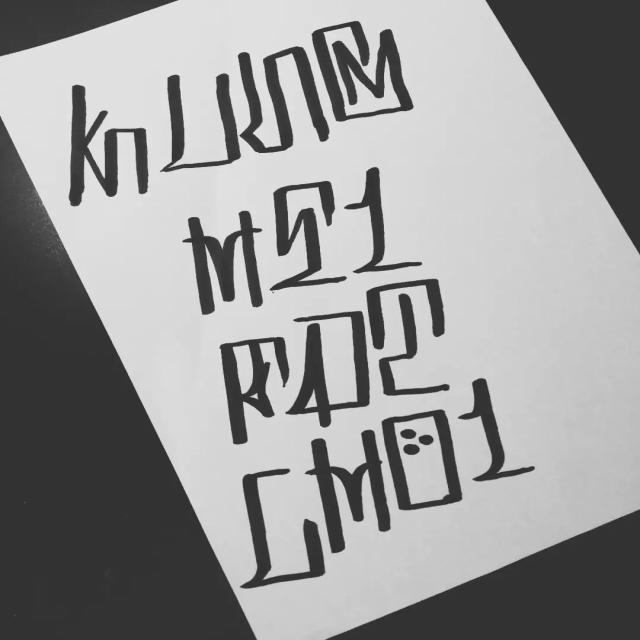nonspitting: (66, 16, 537, 587)
